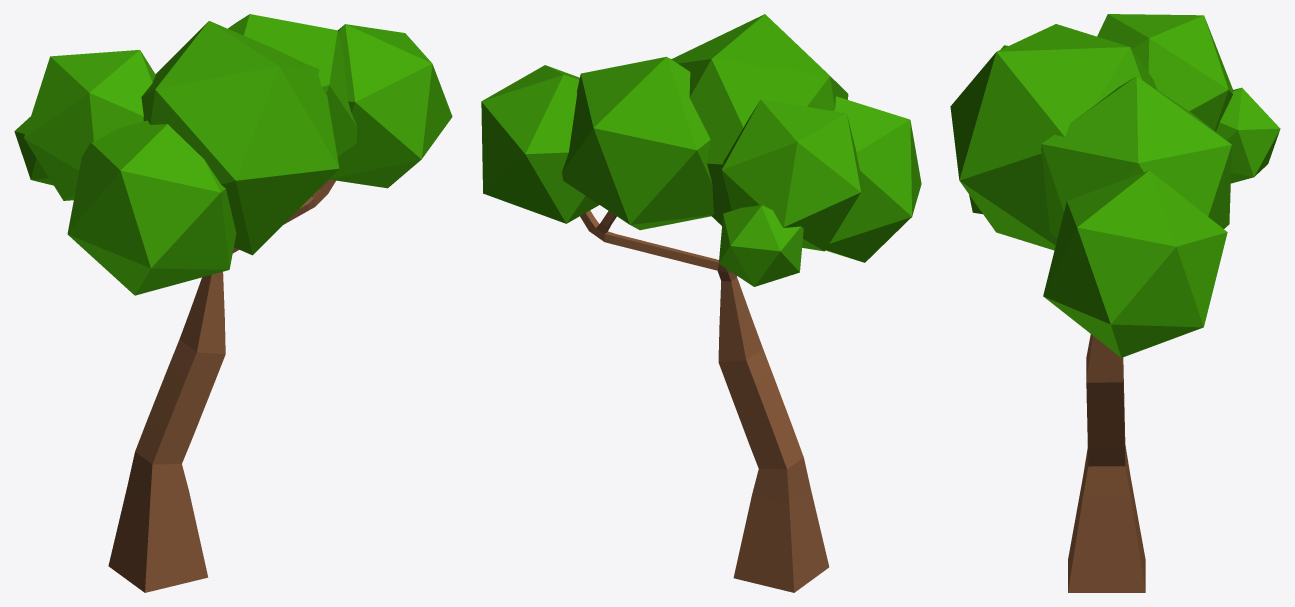
File: grown-tree-1.gltf
3 views of the same model, side by side, from view 1: azimuth 30°, elevation 25°; view 2: azimuth 150°, elevation 25°; view 3: azimuth 270°, elevation 25° (orthographic). The views are drawn at different scales.
Visible parts, largest first — view 1: Leaves6, Leaves5, Base, Leaves1, Leaves3, Leaves2, Leaves4; view 2: Leaves2, Base, Leaves3, Leaves6, Leaves1, Leaves5, Leaves4; view 3: Leaves1, Leaves6, Leaves2, Base, Leaves3, Leaves4.
Part boxes in pixels (x1,y1,x2,y2): Leaves6: (141,21,339,255); Leaves5: (67,120,236,295); Base: (108,179,335,592); Leaves1: (329,24,452,188); Leaves3: (24,50,155,200); Leaves2: (228,14,357,156); Leaves4: (14,116,53,185); Leaves2: (562,56,713,230); Base: (580,210,829,592); Leaves3: (722,99,862,251); Leaves6: (671,14,848,225); Leaves1: (481,65,599,223); Leaves5: (825,96,921,262); Leaves4: (718,204,803,286); Leaves1: (1043,170,1227,357); Leaves6: (950,24,1156,250); Leaves2: (1041,76,1231,237); Base: (1068,334,1145,592); Leaves3: (1097,14,1232,131); Leaves4: (1216,87,1280,183).
Size of the model in its own units: 6.79 by 8.37 by 4.46.
